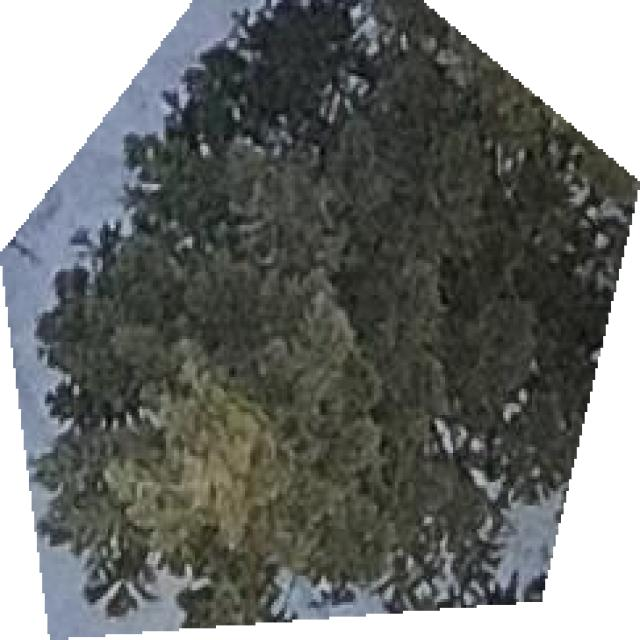spruce: (8, 0, 637, 634)
